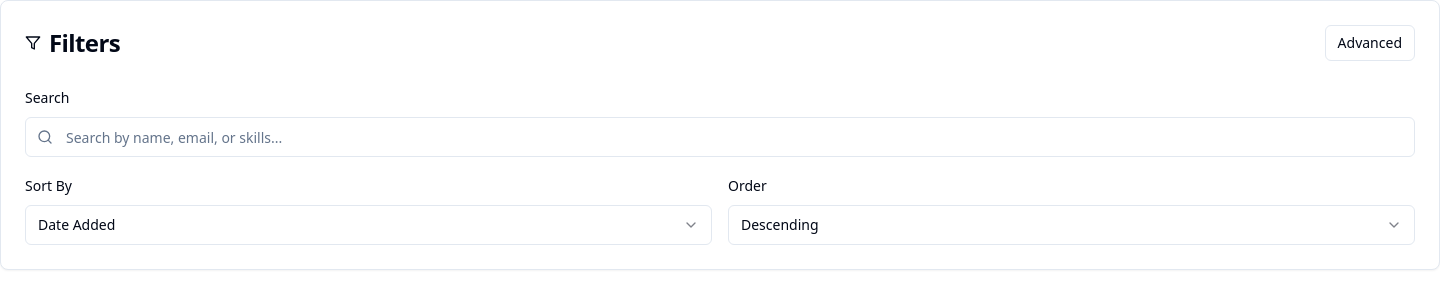
Test case: CandidateFilters › shows Clear All button only when filters are active
The image size is (1440, 287).
Expected: the text "Clear All" is not shown
Type "test" into the field with placeholder "Search by name, email, or skills..." at (720, 137), box [25,117,1415,157]
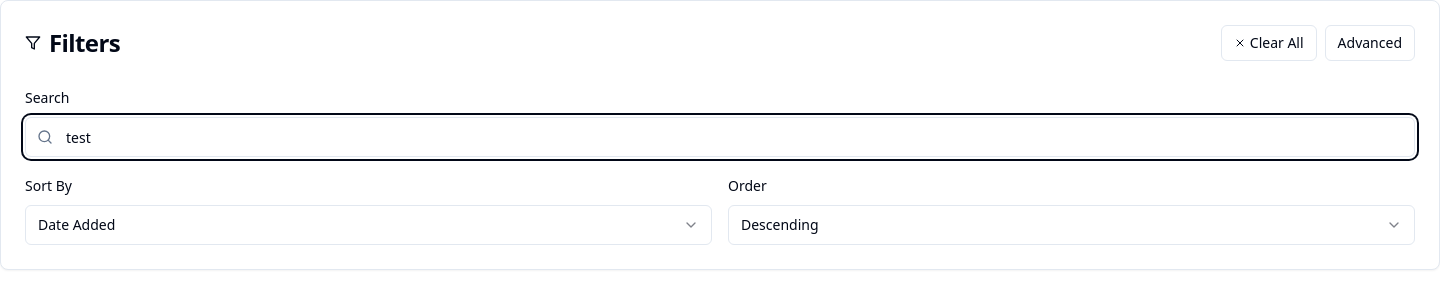
Result: the button "Clear All" is shown at [1221,25,1317,61]
